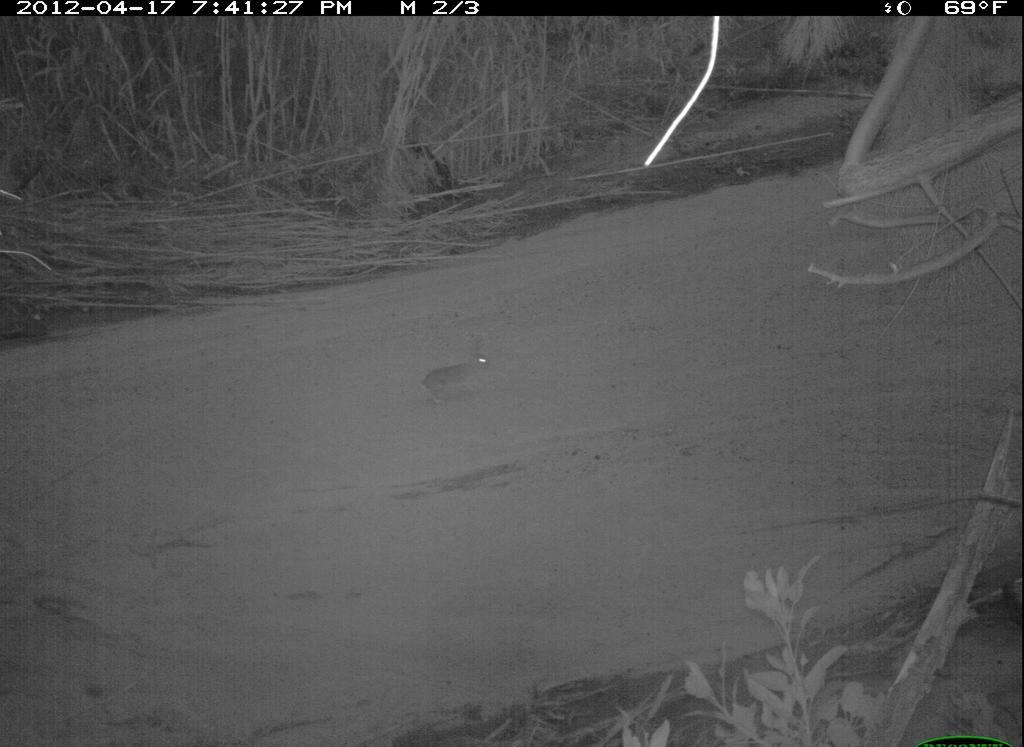rabbit: (401, 339, 512, 419)
